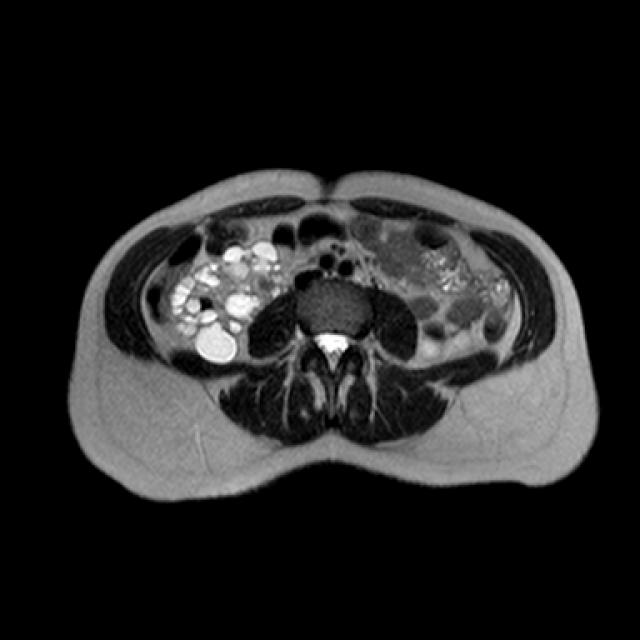sag: (168, 239, 295, 363)
sol: (420, 338, 439, 360)
